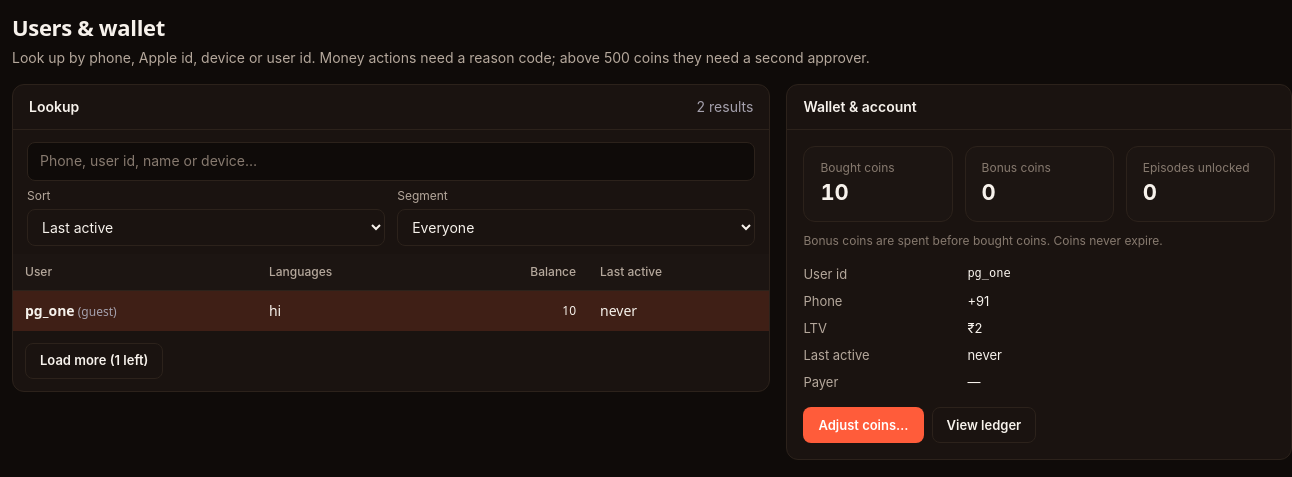
Test: remaining handler coverage › Users: empty search state and Load more paging
The image size is (1292, 477).
Expected: the text "pg_one" next to "guest" is shown, [25,301,75,320]
Click the button "Load more (1 left)" at (94, 361), box [25,343,163,379]
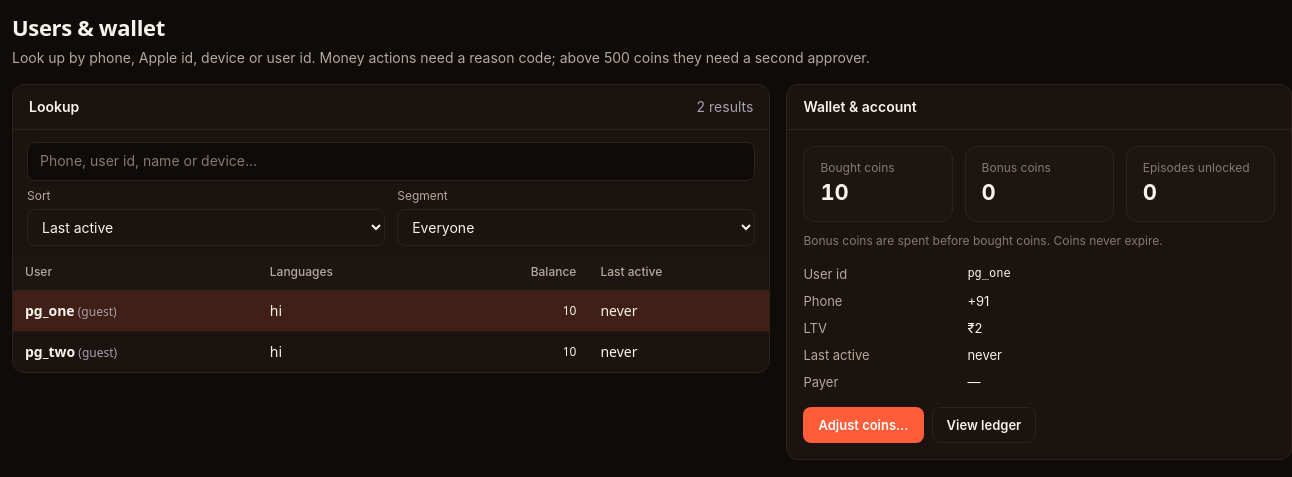
Expected: the text "pg_two" is shown, [25,342,75,361]
Type "zz" into the field named "Search users" at (391, 162), box [27,142,755,181]
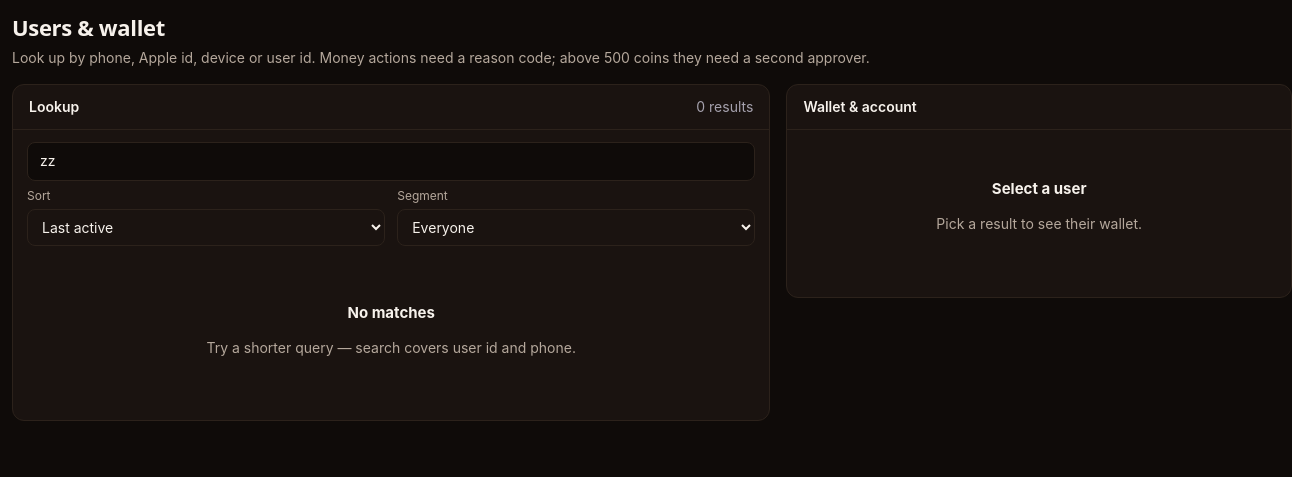
Expected: the heading "No matches" is shown, [348,303,435,322]
